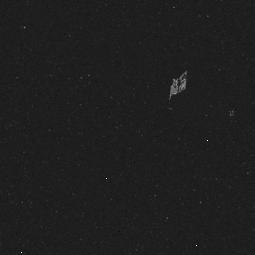lisa_pathfinder: (148, 60, 232, 131)
